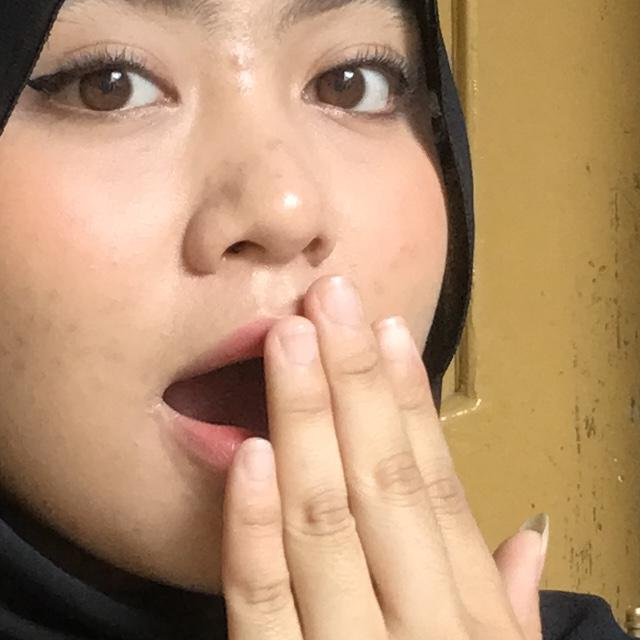ngantuk: (80, 216, 640, 640)
